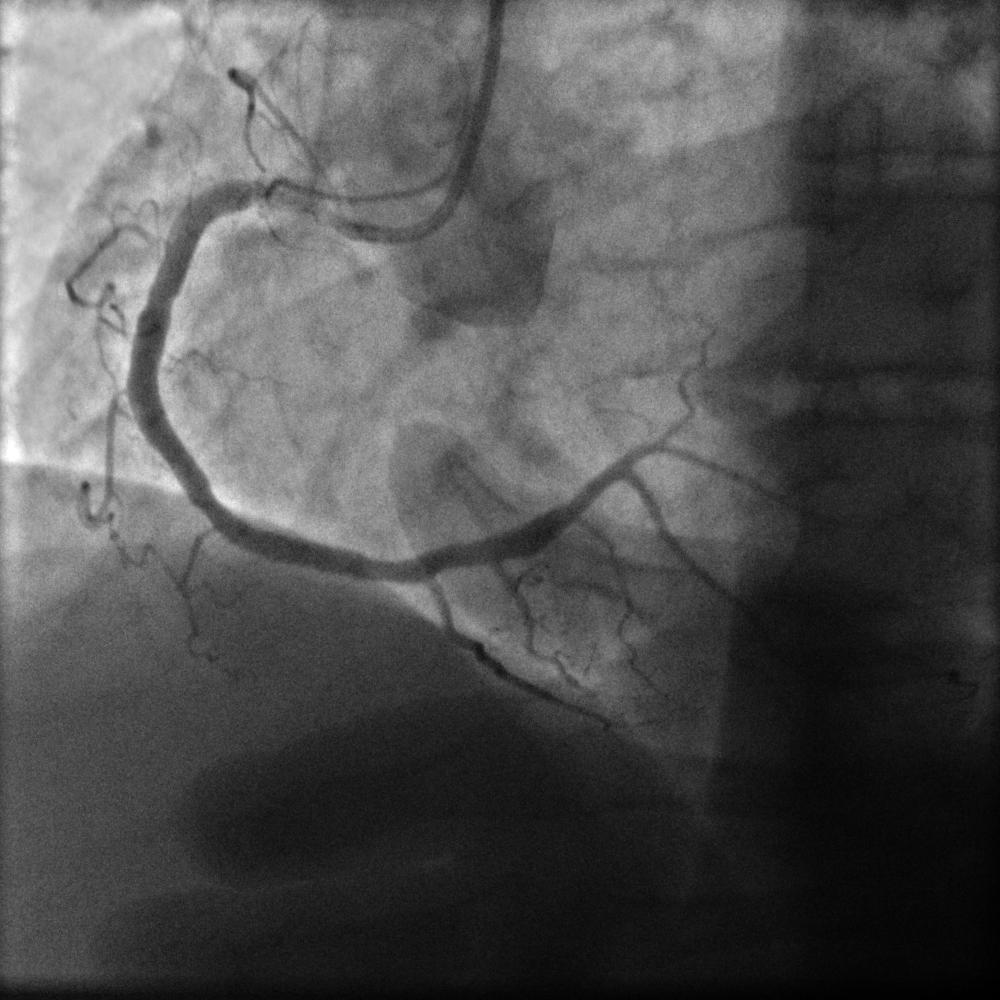Stenosis: (235, 165, 331, 232)
